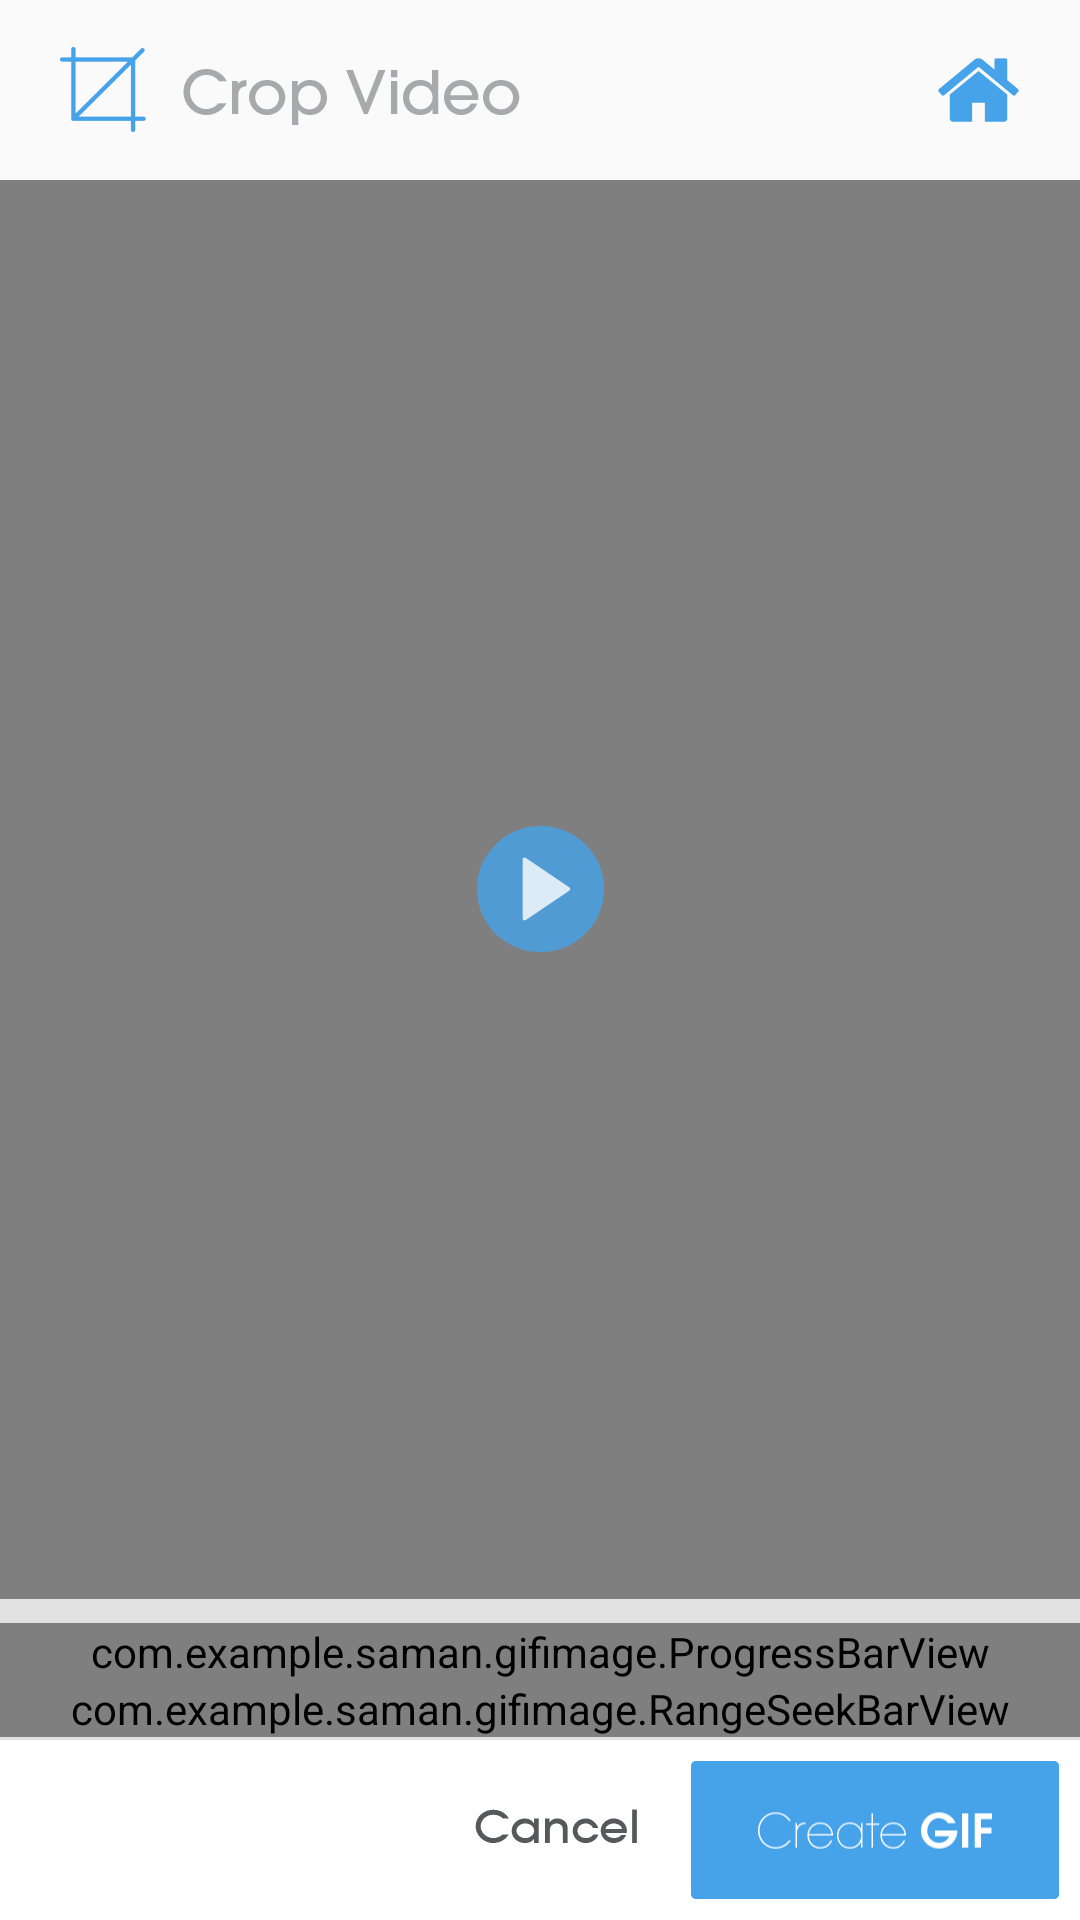

Named icons in this screenshot (1080 × 1920) and their bounding boxes, (x1, y1, x2, y2):
home: (938, 58, 1019, 122)
ply: (477, 826, 604, 952)
